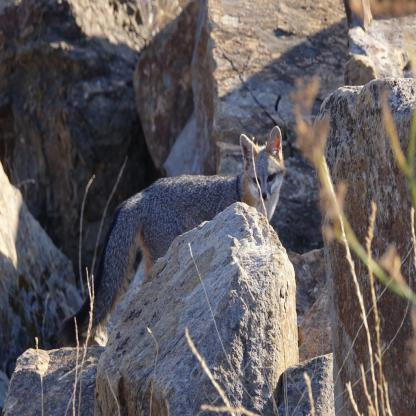zorro: (75, 126, 286, 355)
